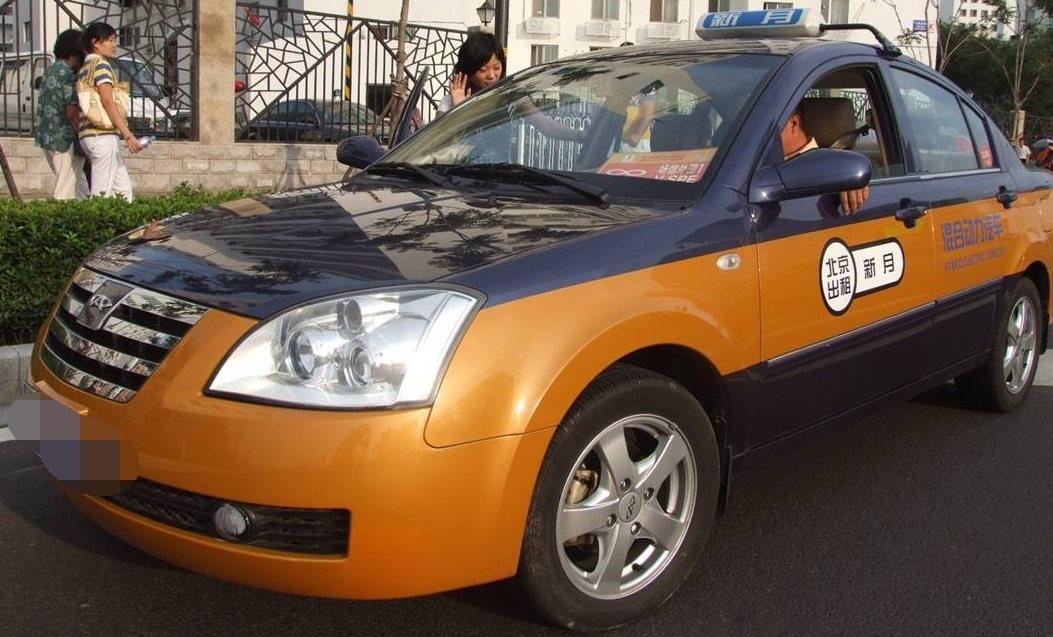taxi: (42, 30, 1047, 620)
